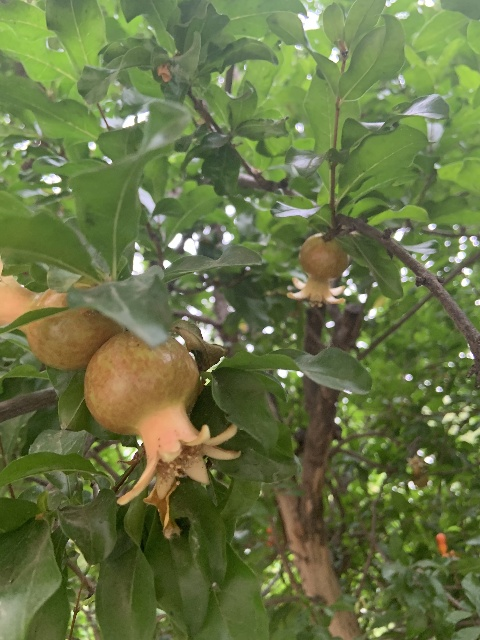early-fruit: (83, 330, 241, 504), (0, 248, 118, 371), (286, 233, 349, 305)
